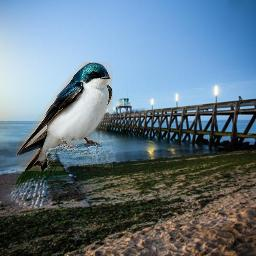Swallow: (16, 62, 113, 171)
